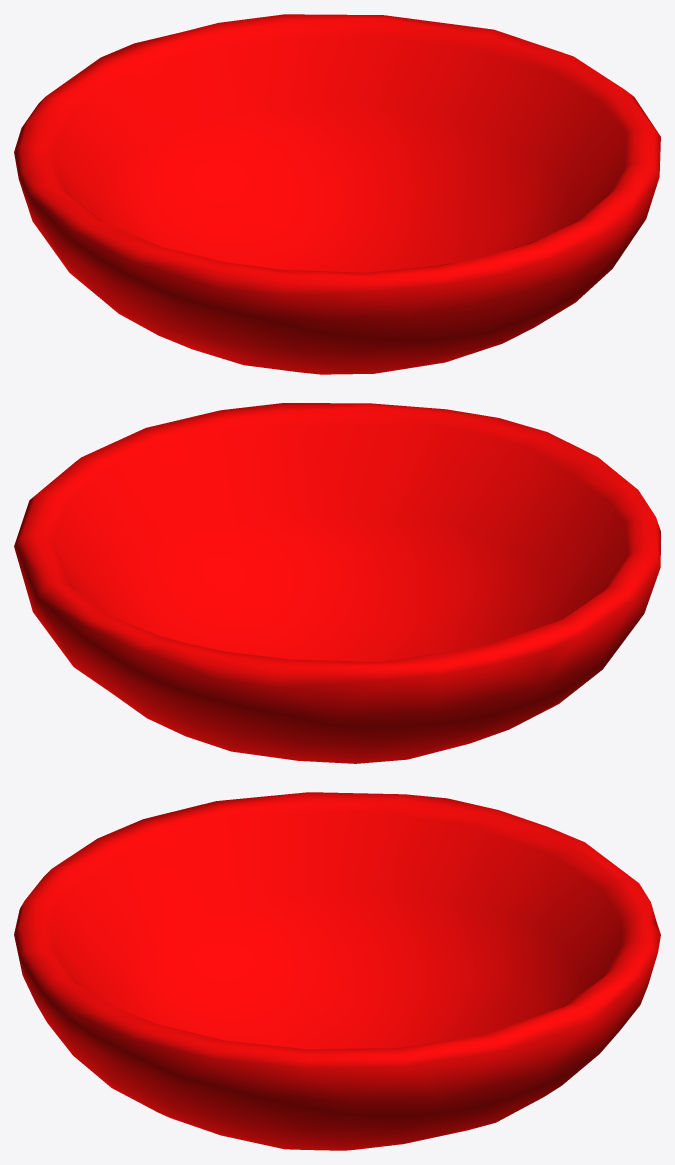
The model's file is LowPoly_torche.fbx.
The picture shows the model from 3 angles, top to bottom: view 1: azimuth 30°, elevation 25°; view 2: azimuth 150°, elevation 25°; view 3: azimuth 270°, elevation 25°; orthographic projection.
Parts seen in each view (by area): view 1: LowPoly_torche; view 2: LowPoly_torche; view 3: LowPoly_torche.
Part boxes in pixels (x1,y1,x2,y2): LowPoly_torche: [14, 14, 660, 374]; LowPoly_torche: [14, 403, 660, 763]; LowPoly_torche: [14, 792, 660, 1150].
Bounding box in the file's own units: 34.23 × 10.76 × 34.35.
